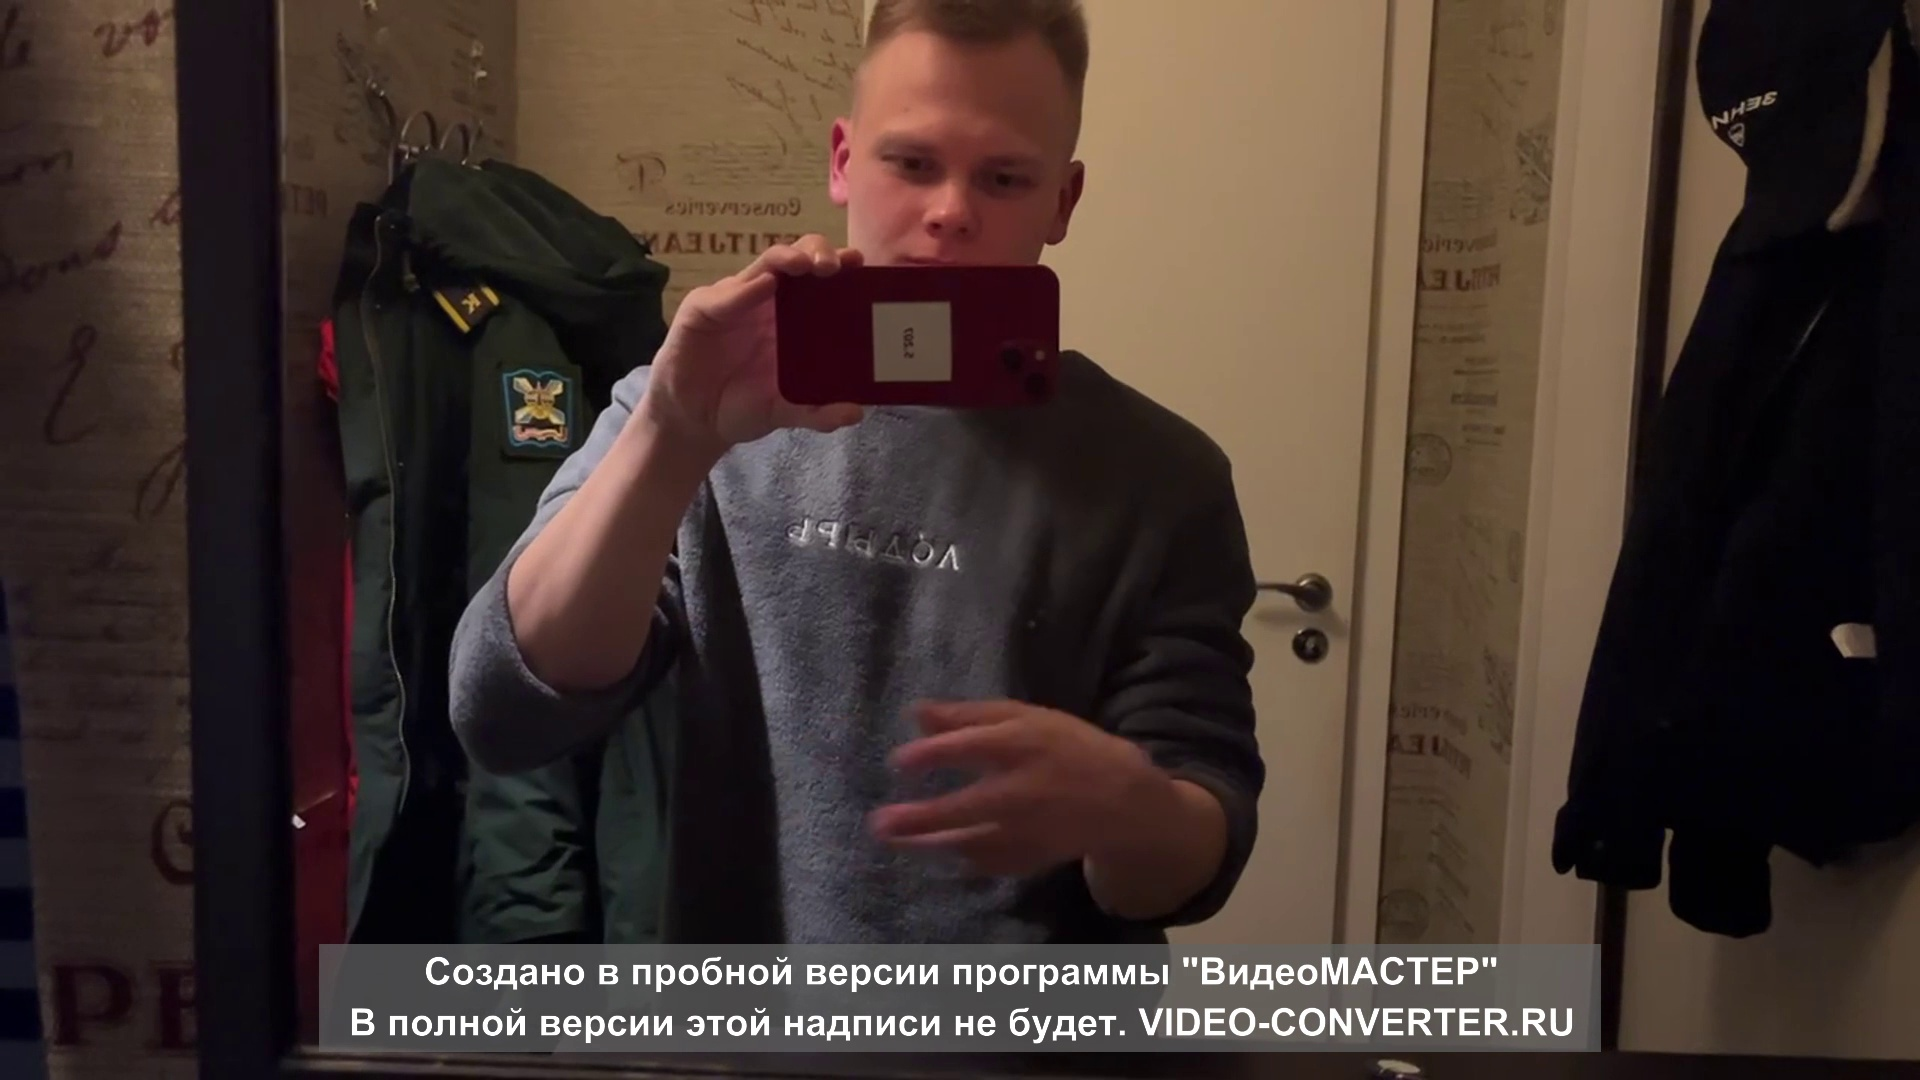Кисть: (874, 694, 1122, 874)
